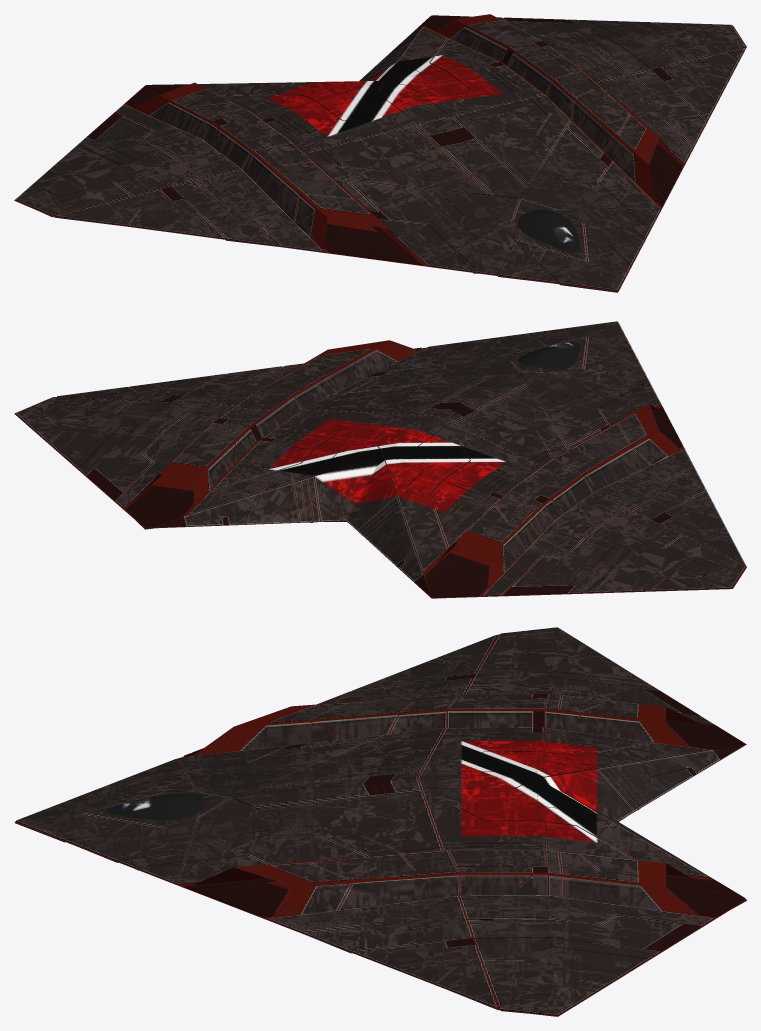
File: TriniShip.glb
3 renders of one model, top to bottom at view 1: azimuth 30°, elevation 25°; view 2: azimuth 150°, elevation 25°; view 3: azimuth 270°, elevation 25°, orthographic. The views are drawn at different scales.
Parts seen in each view (by area): view 1: Plating_Top, Jet, Cockpit; view 2: Plating_Top, Jet, Cockpit; view 3: Plating_Top, Jet, Cockpit.
Part boxes in pixels (bbox=[...]): Plating_Top: bbox=[15, 15, 745, 290]; Jet: bbox=[14, 14, 746, 291]; Cockpit: bbox=[518, 209, 579, 252]; Plating_Top: bbox=[15, 321, 745, 597]; Jet: bbox=[14, 322, 746, 598]; Cockpit: bbox=[518, 342, 579, 370]; Plating_Top: bbox=[16, 627, 745, 1015]; Jet: bbox=[14, 634, 746, 1016]; Cockpit: bbox=[106, 793, 203, 820].
Size of the model in its own units: 12.8 by 0.9095 by 10.18.
Materials: 6 (6 with a texture image).
